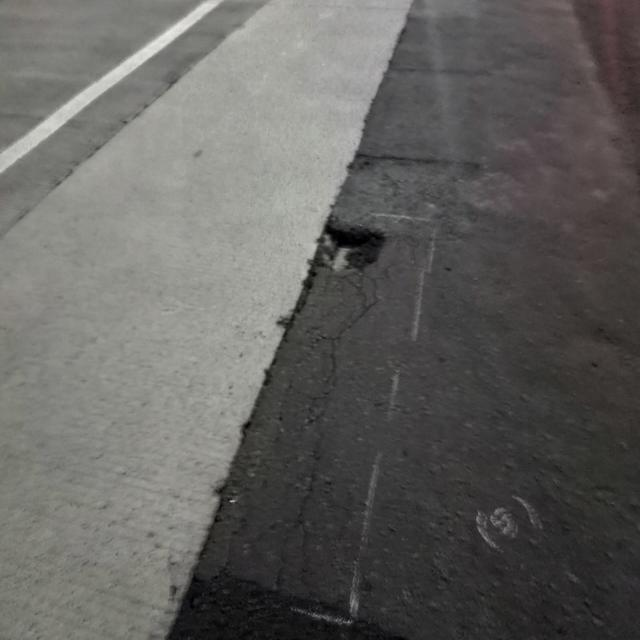Buraco: (309, 213, 394, 275)
